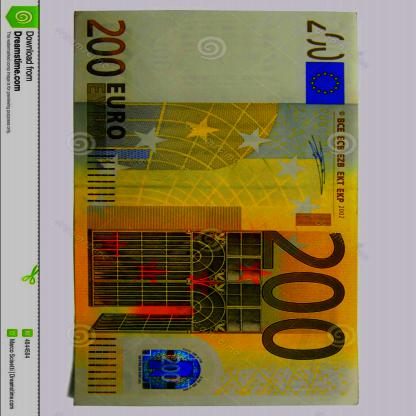euro_banknote: (21, 66, 411, 350)
